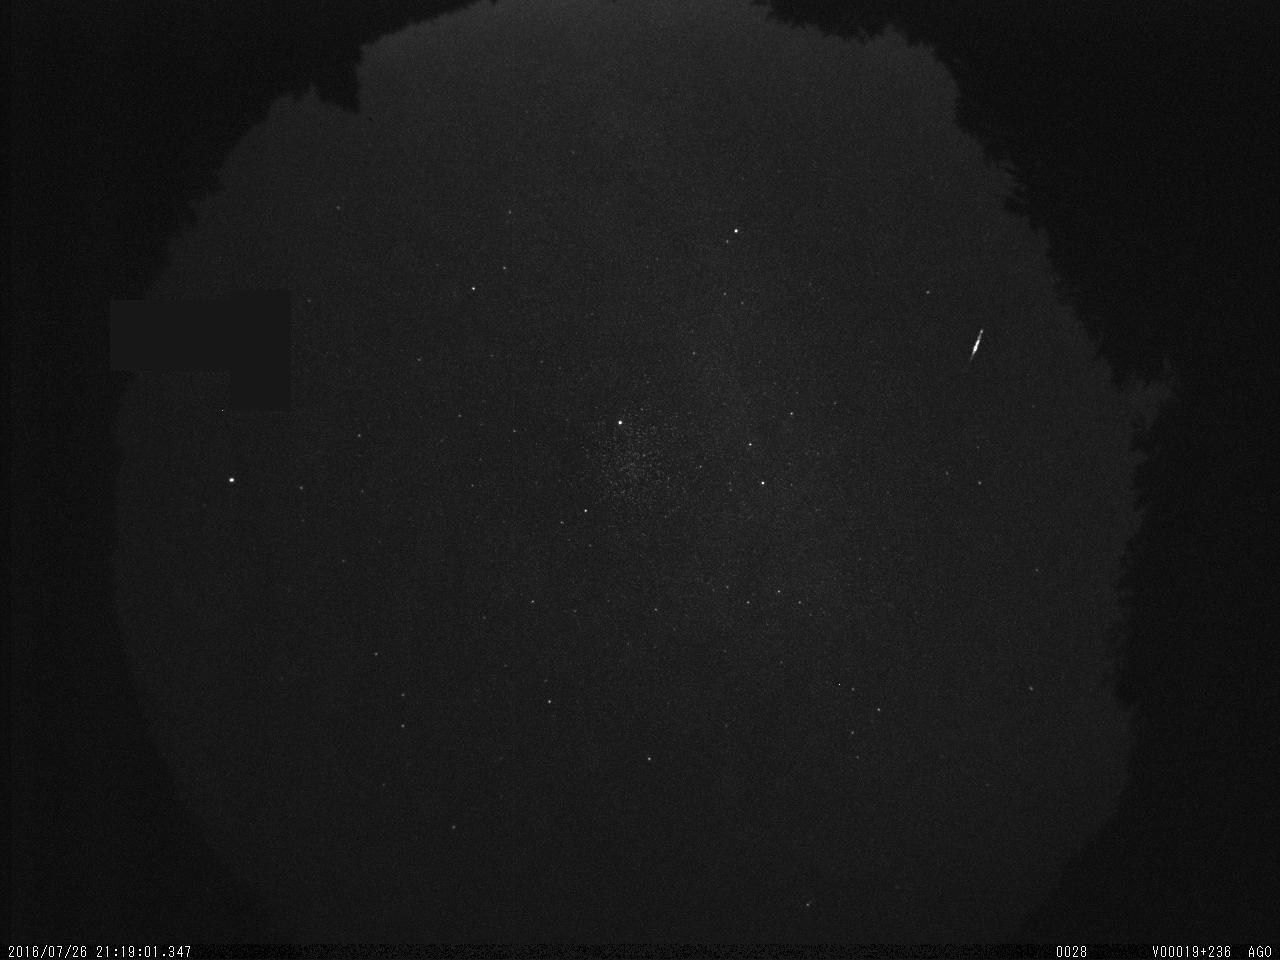meteor: (955, 326, 990, 380)
